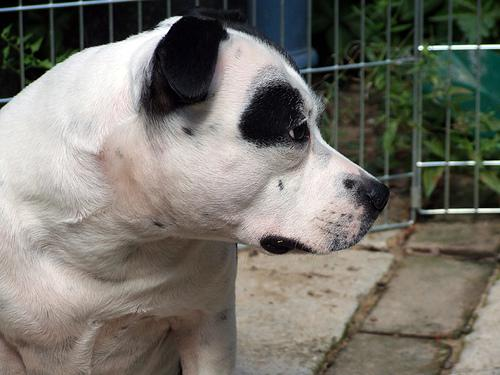dog-staffordshire_bull_terrier: (132, 8, 388, 251)
